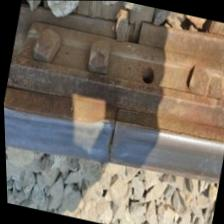person: (41, 75, 182, 200), (115, 12, 155, 52)
